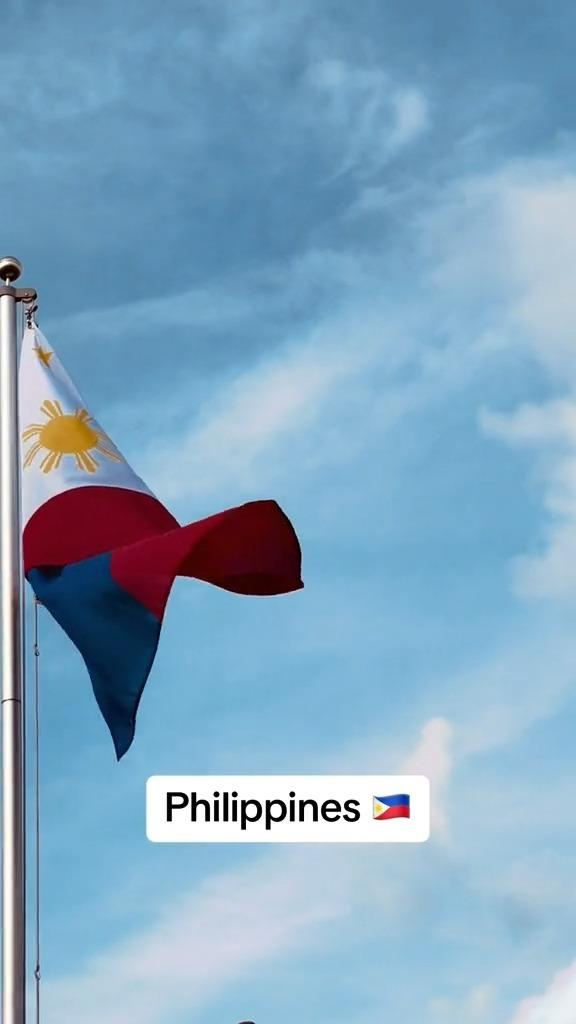Philippines: (9, 321, 300, 753)
